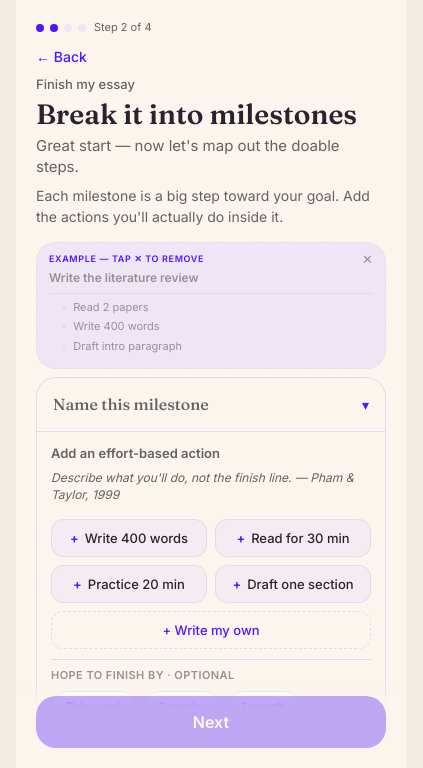
Scenario: dismissing the example removes it from the screen
Click the button named "dismiss example".
click(368, 260)  # box [362,253,373,266]
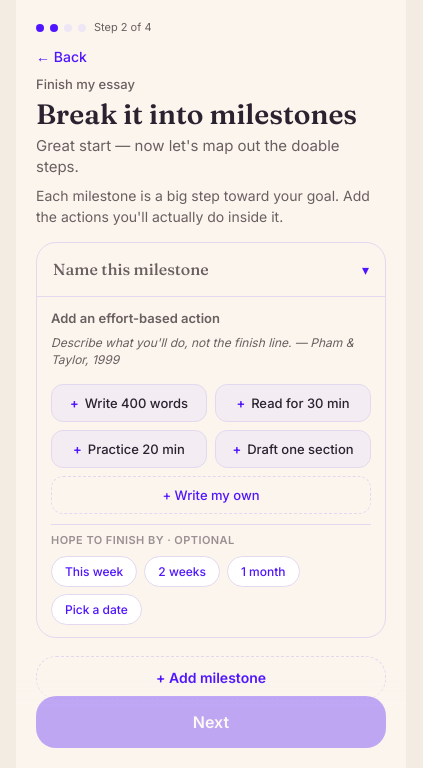
Expected: the text "Write the literature review" is gone
